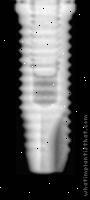Anthogyr: (16, 0, 75, 175)
